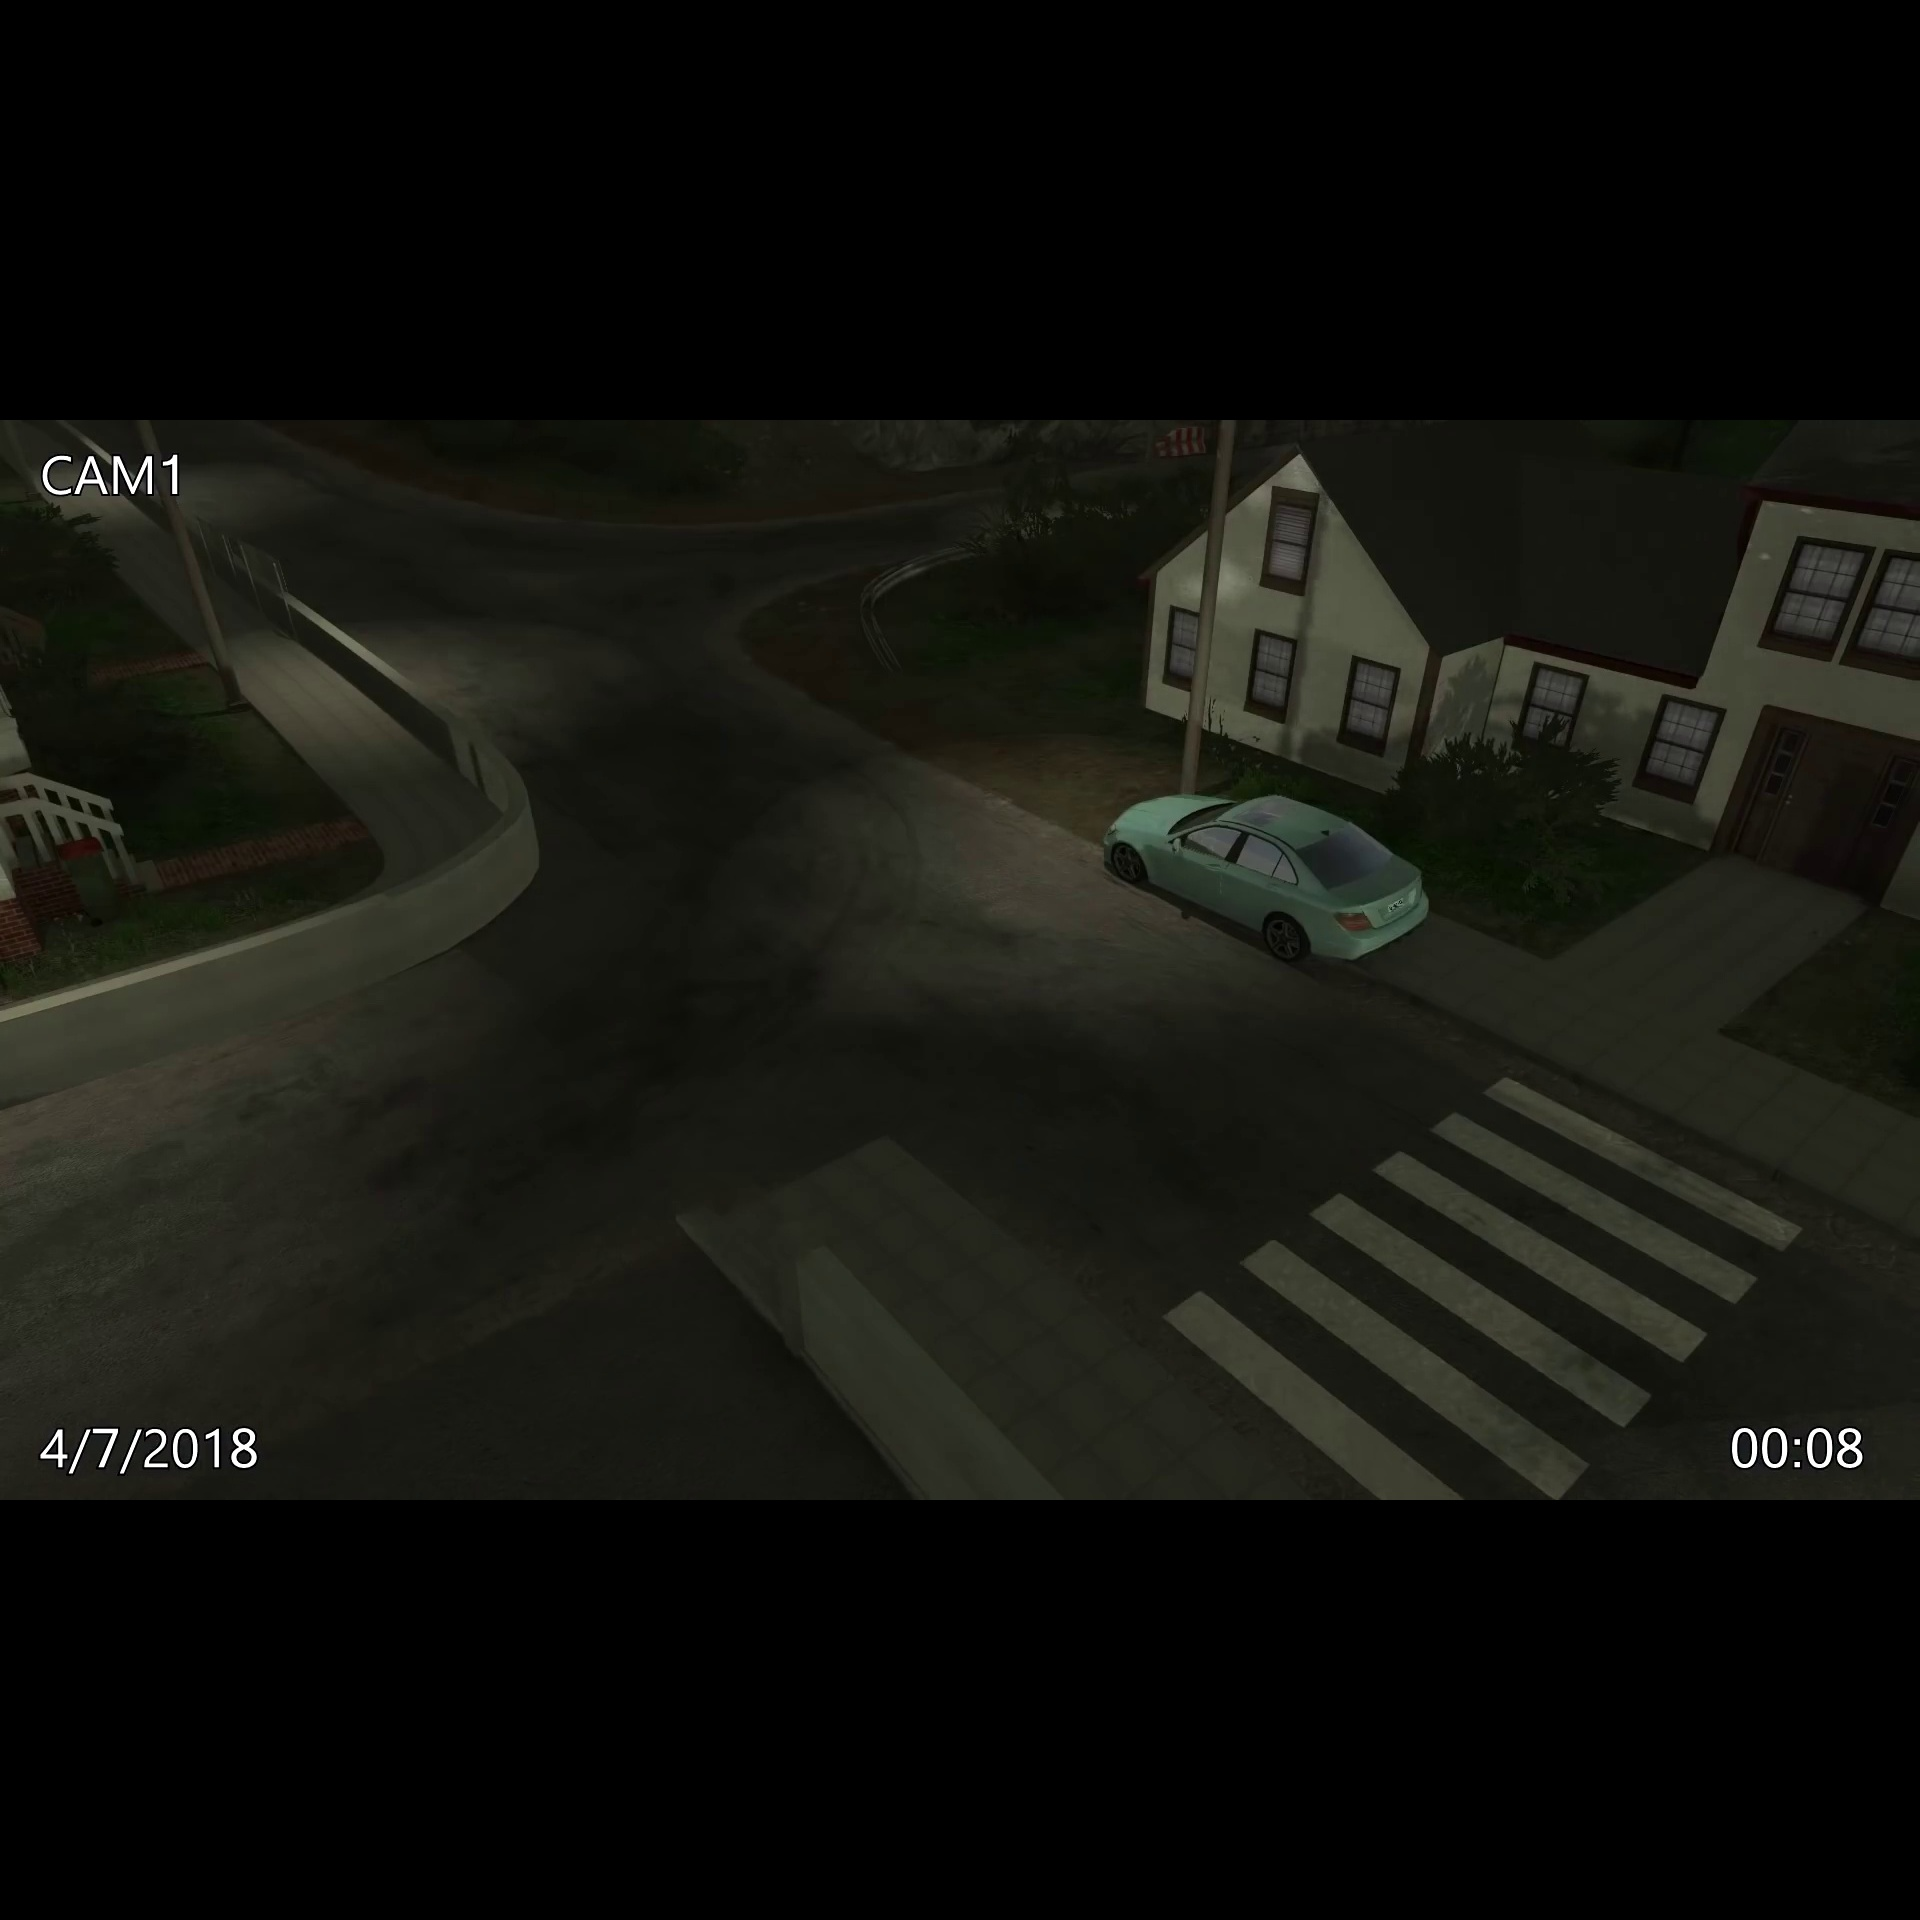vehicle: (1092, 782, 1435, 976)
